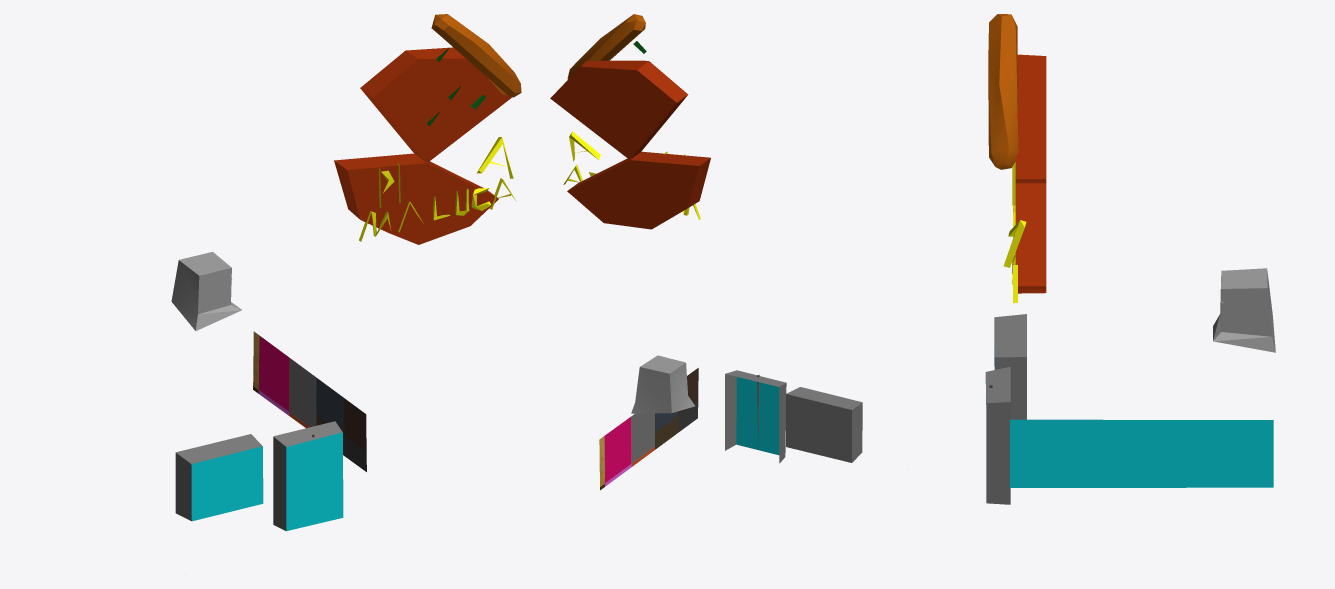
File: PizzaMalucaLOD2.fbx
3 views of the same model, side by side, from view 1: azimuth 30°, elevation 25°; view 2: azimuth 150°, elevation 25°; view 3: azimuth 270°, elevation 25° (orthographic). The views are drawn at different scales.
Visible parts, largest first — view 1: PizzariaLOD2, PizzonaLOD2, LogoLOD2; view 2: PizzariaLOD2, PizzonaLOD2, LogoLOD2; view 3: PizzariaLOD2, PizzonaLOD2, LogoLOD2.
Part boxes in pixels (left/top/right/bottom): PizzariaLOD2: left=171, top=47, right=511, bottom=531; PizzonaLOD2: left=426, top=14, right=521, bottom=126; LogoLOD2: left=359, top=137, right=515, bottom=241; PizzariaLOD2: left=550, top=60, right=862, bottom=490; PizzonaLOD2: left=567, top=14, right=646, bottom=79; LogoLOD2: left=563, top=131, right=700, bottom=219; PizzariaLOD2: left=985, top=54, right=1275, bottom=504; PizzonaLOD2: left=988, top=14, right=1018, bottom=169; LogoLOD2: left=1003, top=162, right=1026, bottom=303.
Bounding box in the file's own units: 938 × 1149 × 714.
